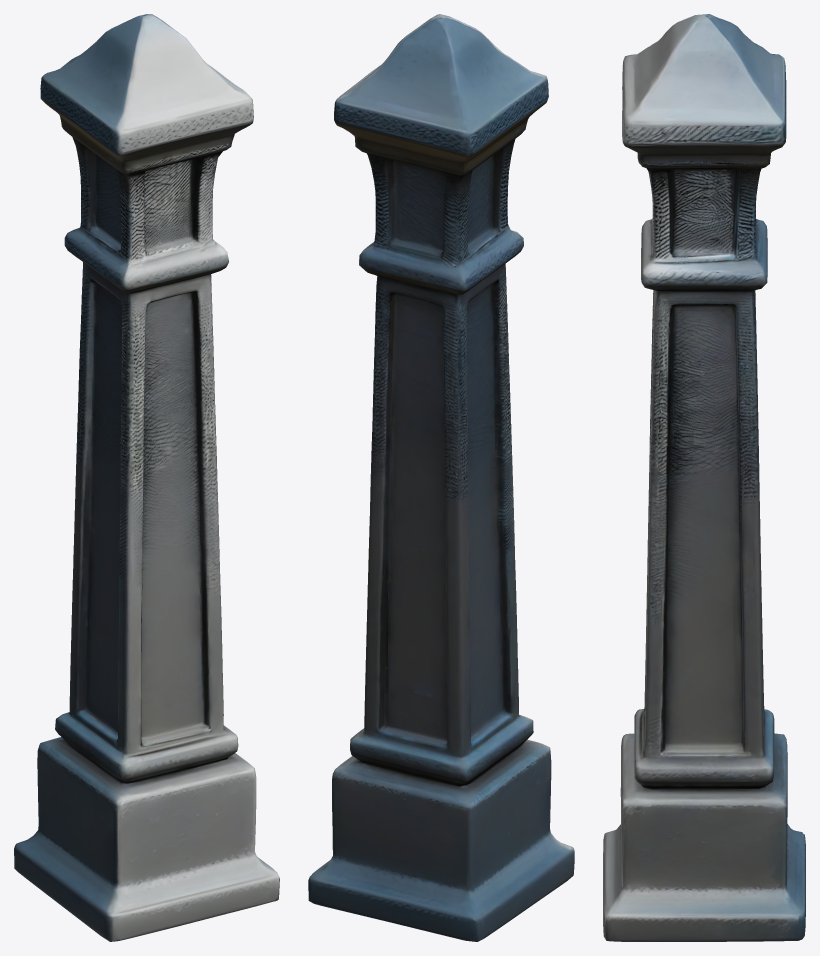
Rendered from gatepost.fbx.
3 views of the same model, side by side, from view 1: azimuth 30°, elevation 25°; view 2: azimuth 150°, elevation 25°; view 3: azimuth 270°, elevation 25° (orthographic).
Parts seen in each view (by area): view 1: tripo_node_4466437a; view 2: tripo_node_4466437a; view 3: tripo_node_4466437a.
Part boxes in pixels (x1=…): tripo_node_4466437a: x1=14, y1=14, x2=279, y2=941; tripo_node_4466437a: x1=308, y1=14, x2=574, y2=941; tripo_node_4466437a: x1=603, y1=14, x2=805, y2=941.
Size of the model in its own units: 0.2088 by 0.9999 by 0.2077.
1 material, 1 textured.
